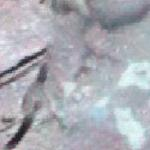alive: (6, 9, 147, 147)
